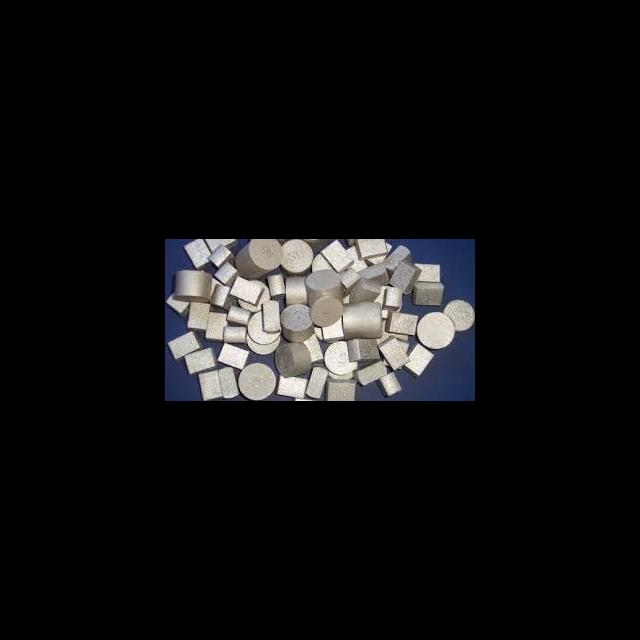metal: (331, 293, 387, 344), (299, 265, 348, 319), (230, 239, 293, 280), (272, 302, 326, 346), (264, 337, 314, 379), (170, 264, 216, 307), (233, 356, 277, 400)
